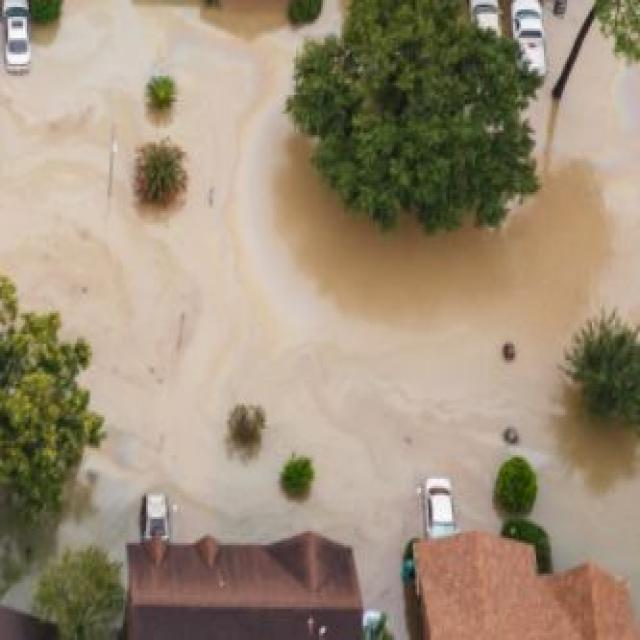flooded_areas: (0, 2, 621, 576)
